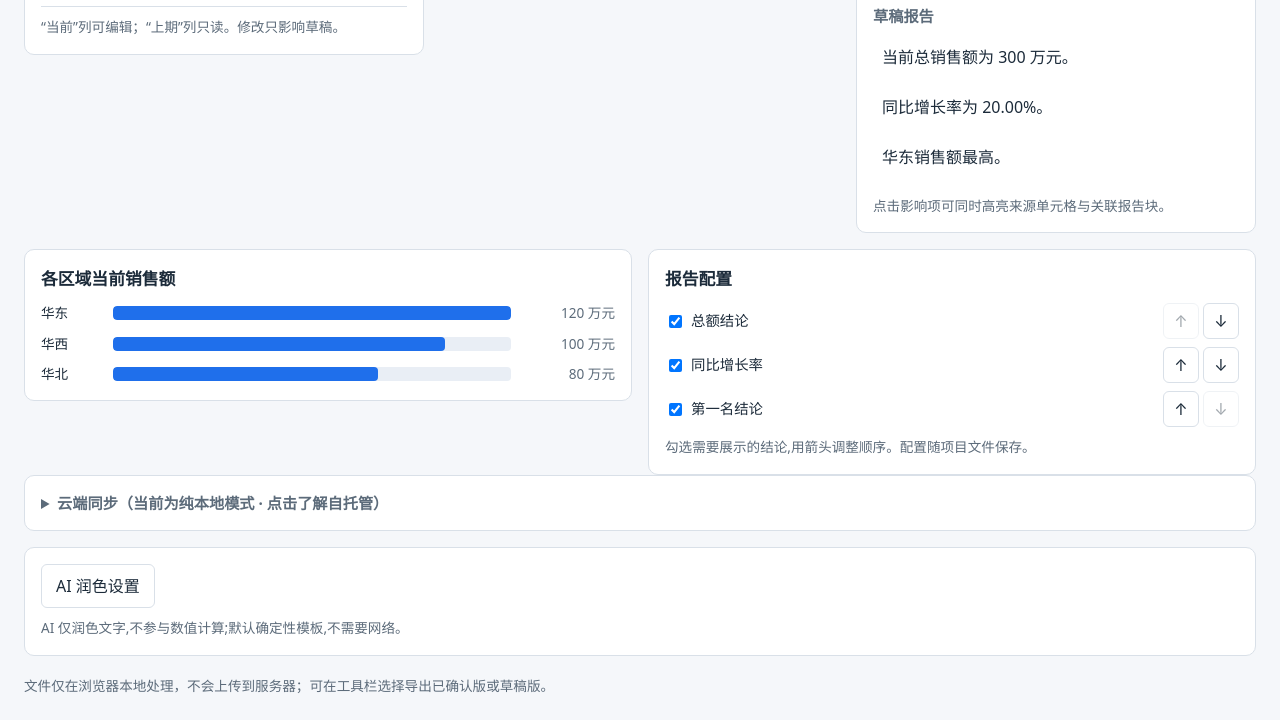
AI polish (opt-in) › polishes the baseline report only after explicit confirmation
(page scrolled)
Click the button "AI 润色设置".
click(98, 586)  # box x1=41 y1=564 x2=155 y2=608
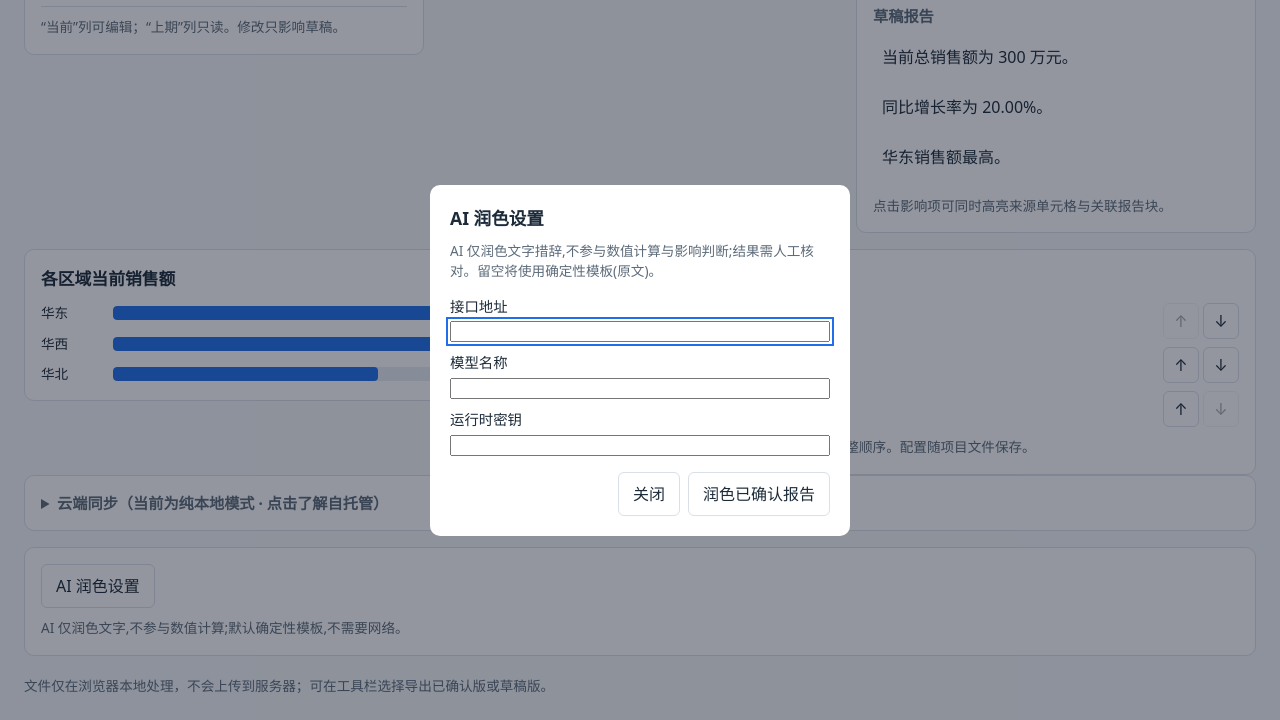
Type "https://api.example.com/v1/polish" into the field labelled "接口地址".
click(640, 332); type("https://api.example.com/v1/polish")  # box x1=450 y1=321 x2=830 y2=342
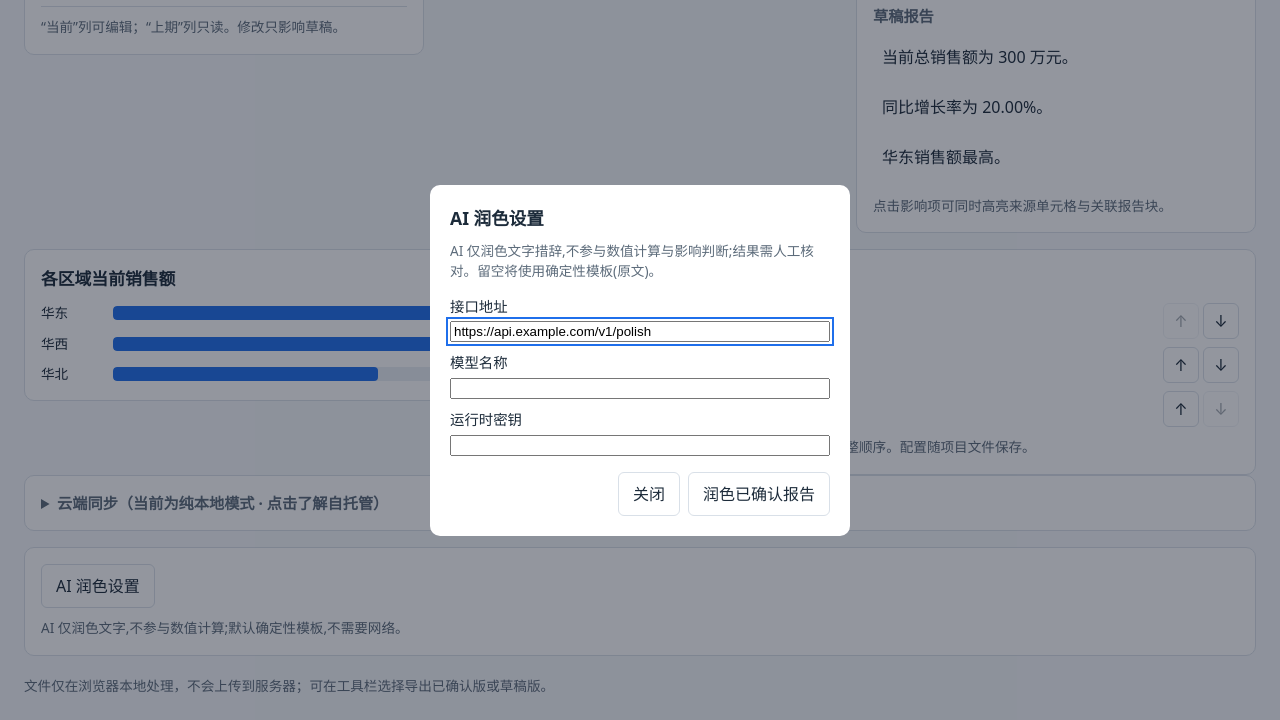
Type "test-model" into the field labelled "模型名称".
click(640, 388); type("test-model")  # box x1=450 y1=378 x2=830 y2=399
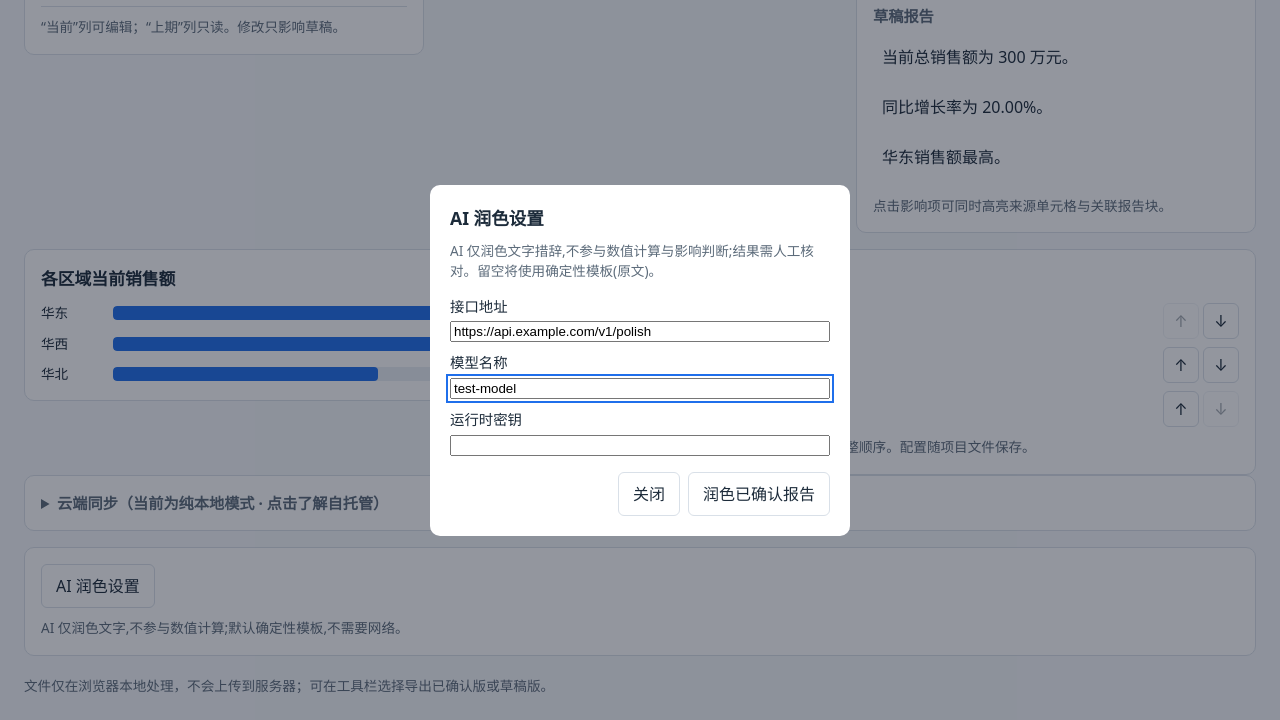
Type "sk-runtime-only" into the password field labelled "运行时密钥".
click(640, 445); type("sk-runtime-only")  # box x1=450 y1=434 x2=830 y2=456
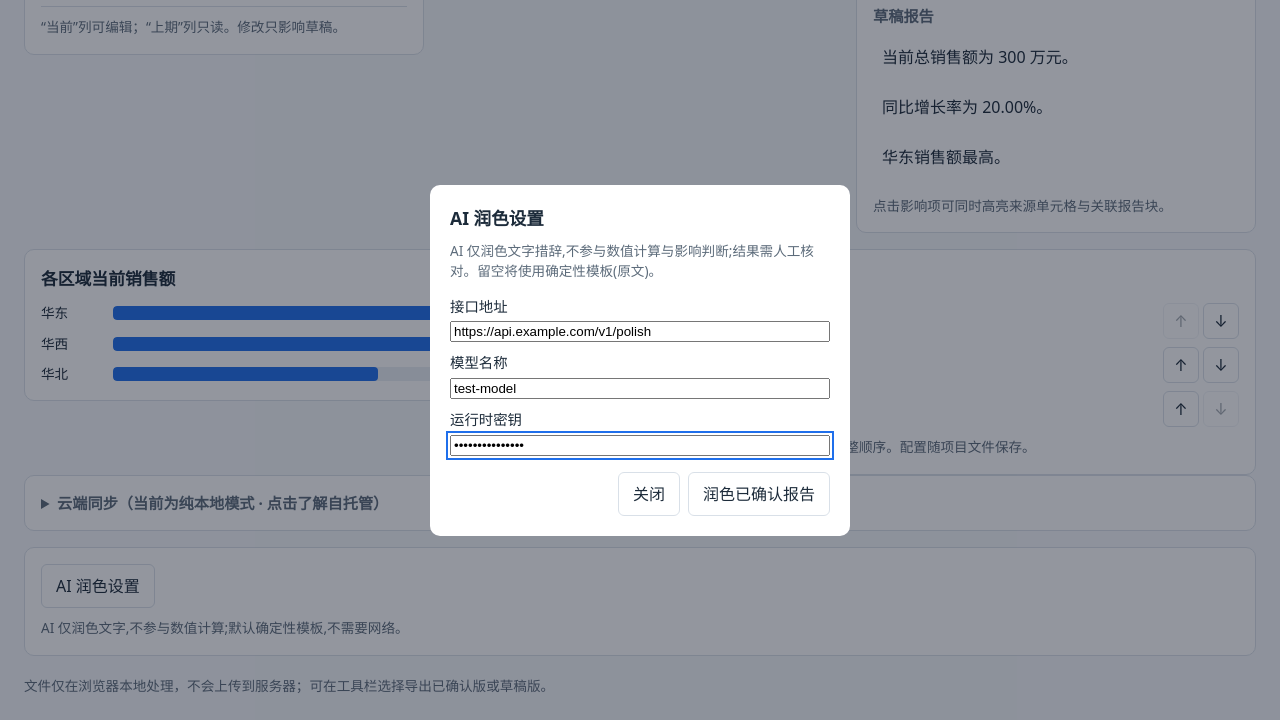
Click the button "润色已确认报告".
click(759, 494)  # box x1=688 y1=472 x2=830 y2=516
(page scrolled)
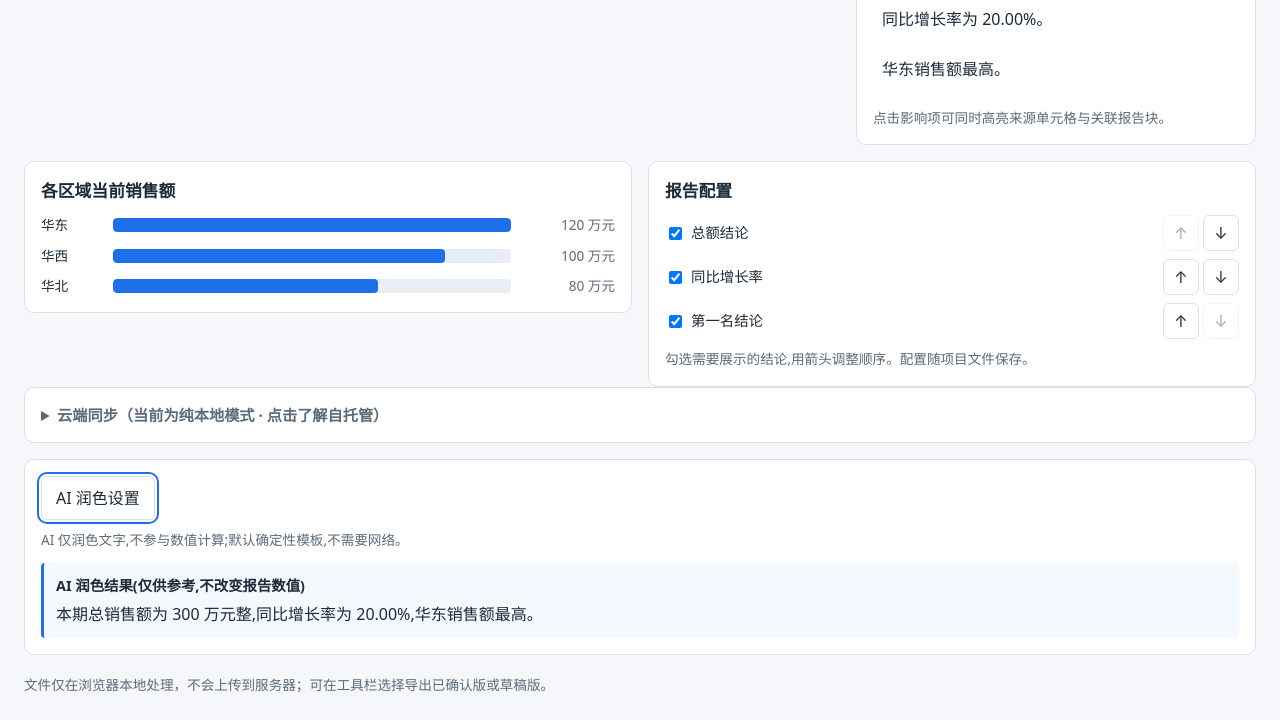
Expected: the element "AI 润色结果" shows "本期总销售额为 300 万元整", x1=56 y1=603 x2=543 y2=625
